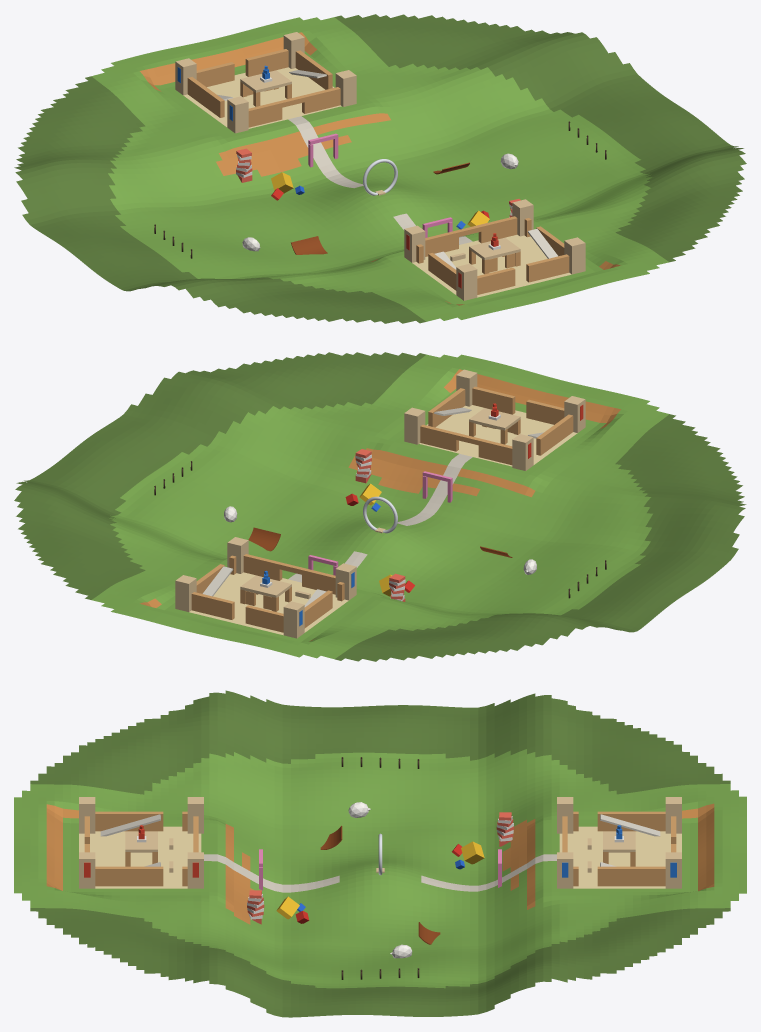
File: sculpture-park.glb
3 views of the same model, one above another, from view 1: azimuth 30°, elevation 25°; view 2: azimuth 150°, elevation 25°; view 3: azimuth 270°, elevation 25° (orthographic). The views are drawn at different scales.
Parts seen in each view (by area): view 1: terrain, south_back_w, north_back_e, north_side_w_back, south_back_e, north_front_e, south_front_w, south_tower_e_back, north_back_w, north_tower_w_front, north_front_w, north_side_e_back (+10 smaller); view 2: terrain, north_back_e, south_back_w, south_side_e_back, north_back_w, south_front_w, north_front_e, north_tower_w_back, south_back_e, south_tower_e_front, south_front_e, south_side_w_back (+10 smaller); view 3: terrain, north_side_e_back, south_side_w_back, north_side_w_back, south_side_e_back, north_keep_roof, south_keep_roof, north_tower_w_front, south_tower_e_front, north_tower_e_front, north_tower_e_back, south_tower_w_front (+3 smaller).
Part boxes in pixels (x1,y1,x2,y2): terrain: (14, 14, 746, 323); south_back_w: (526, 254, 569, 282); north_back_e: (245, 49, 288, 76); north_side_w_back: (187, 77, 224, 117); south_back_e: (477, 267, 515, 294); north_front_e: (302, 87, 340, 113); south_front_w: (478, 216, 517, 243); south_tower_e_back: (456, 263, 477, 300); north_back_w: (196, 62, 234, 87); north_tower_w_front: (227, 96, 248, 133); north_front_w: (248, 101, 282, 127); north_side_e_back: (295, 50, 332, 89); terrain: (14, 352, 746, 661); north_back_e: (191, 592, 234, 619); south_back_w: (472, 386, 515, 414); south_side_e_back: (536, 414, 573, 455); north_back_w: (245, 605, 283, 632); south_front_w: (420, 424, 458, 451); north_front_e: (243, 554, 282, 580); north_tower_w_back: (283, 601, 304, 638); south_back_e: (526, 399, 564, 424); south_tower_e_front: (512, 434, 533, 470); south_front_e: (478, 439, 512, 465); south_side_w_back: (428, 388, 465, 427); terrain: (14, 690, 746, 1017); north_side_e_back: (597, 866, 665, 886); south_side_w_back: (95, 866, 163, 886); north_side_w_back: (597, 811, 665, 831); south_side_e_back: (95, 811, 163, 831); north_keep_roof: (603, 831, 635, 852); south_keep_roof: (125, 831, 157, 852); north_tower_w_front: (557, 797, 573, 833); south_tower_e_front: (187, 797, 203, 833); north_tower_e_front: (557, 852, 573, 888); north_tower_e_back: (665, 852, 681, 888); south_tower_w_front: (187, 852, 203, 888).
Bounding box in the file's own units: 270 × 27.16 × 270.
